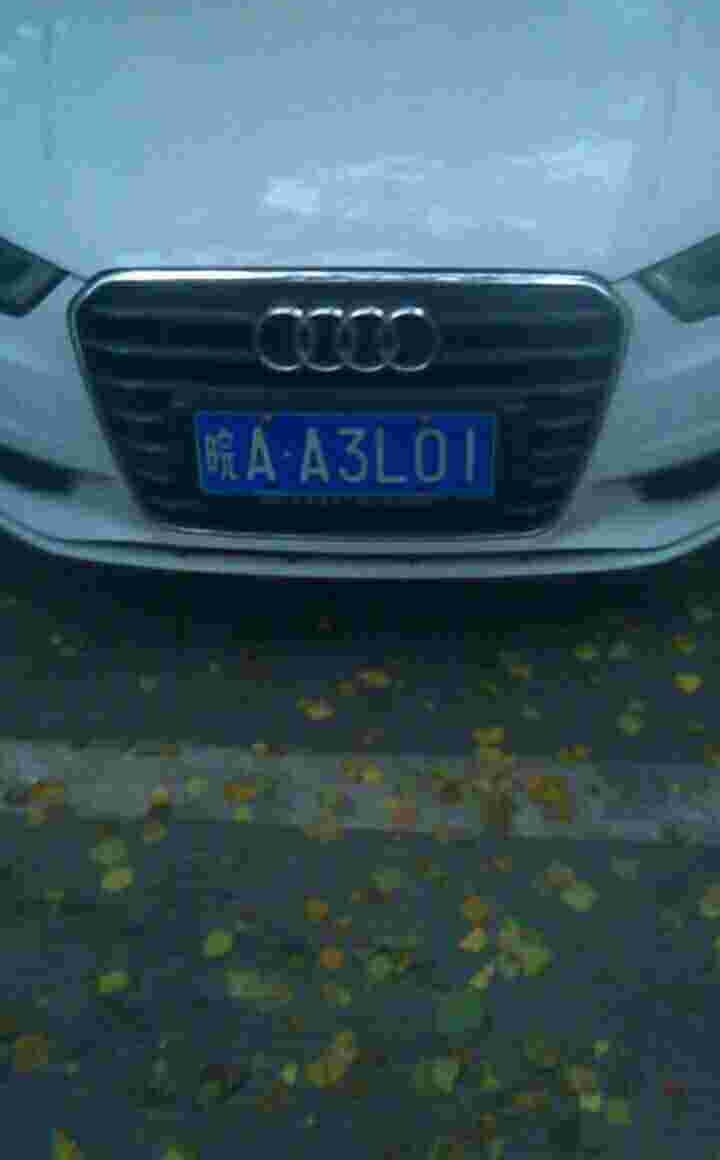license_plate: (177, 407, 507, 507)
